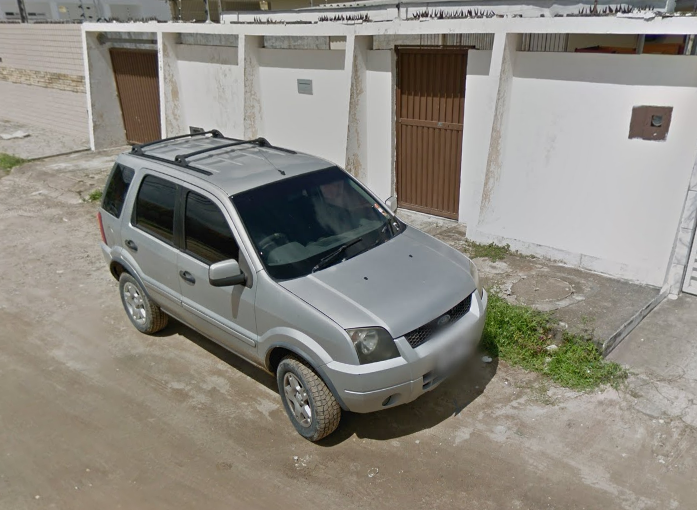car: (95, 126, 491, 450)
